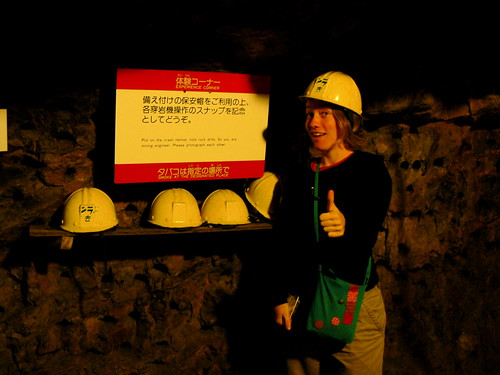helmet: (300, 64, 372, 104), (59, 186, 114, 232), (143, 185, 200, 228), (203, 185, 245, 224)
